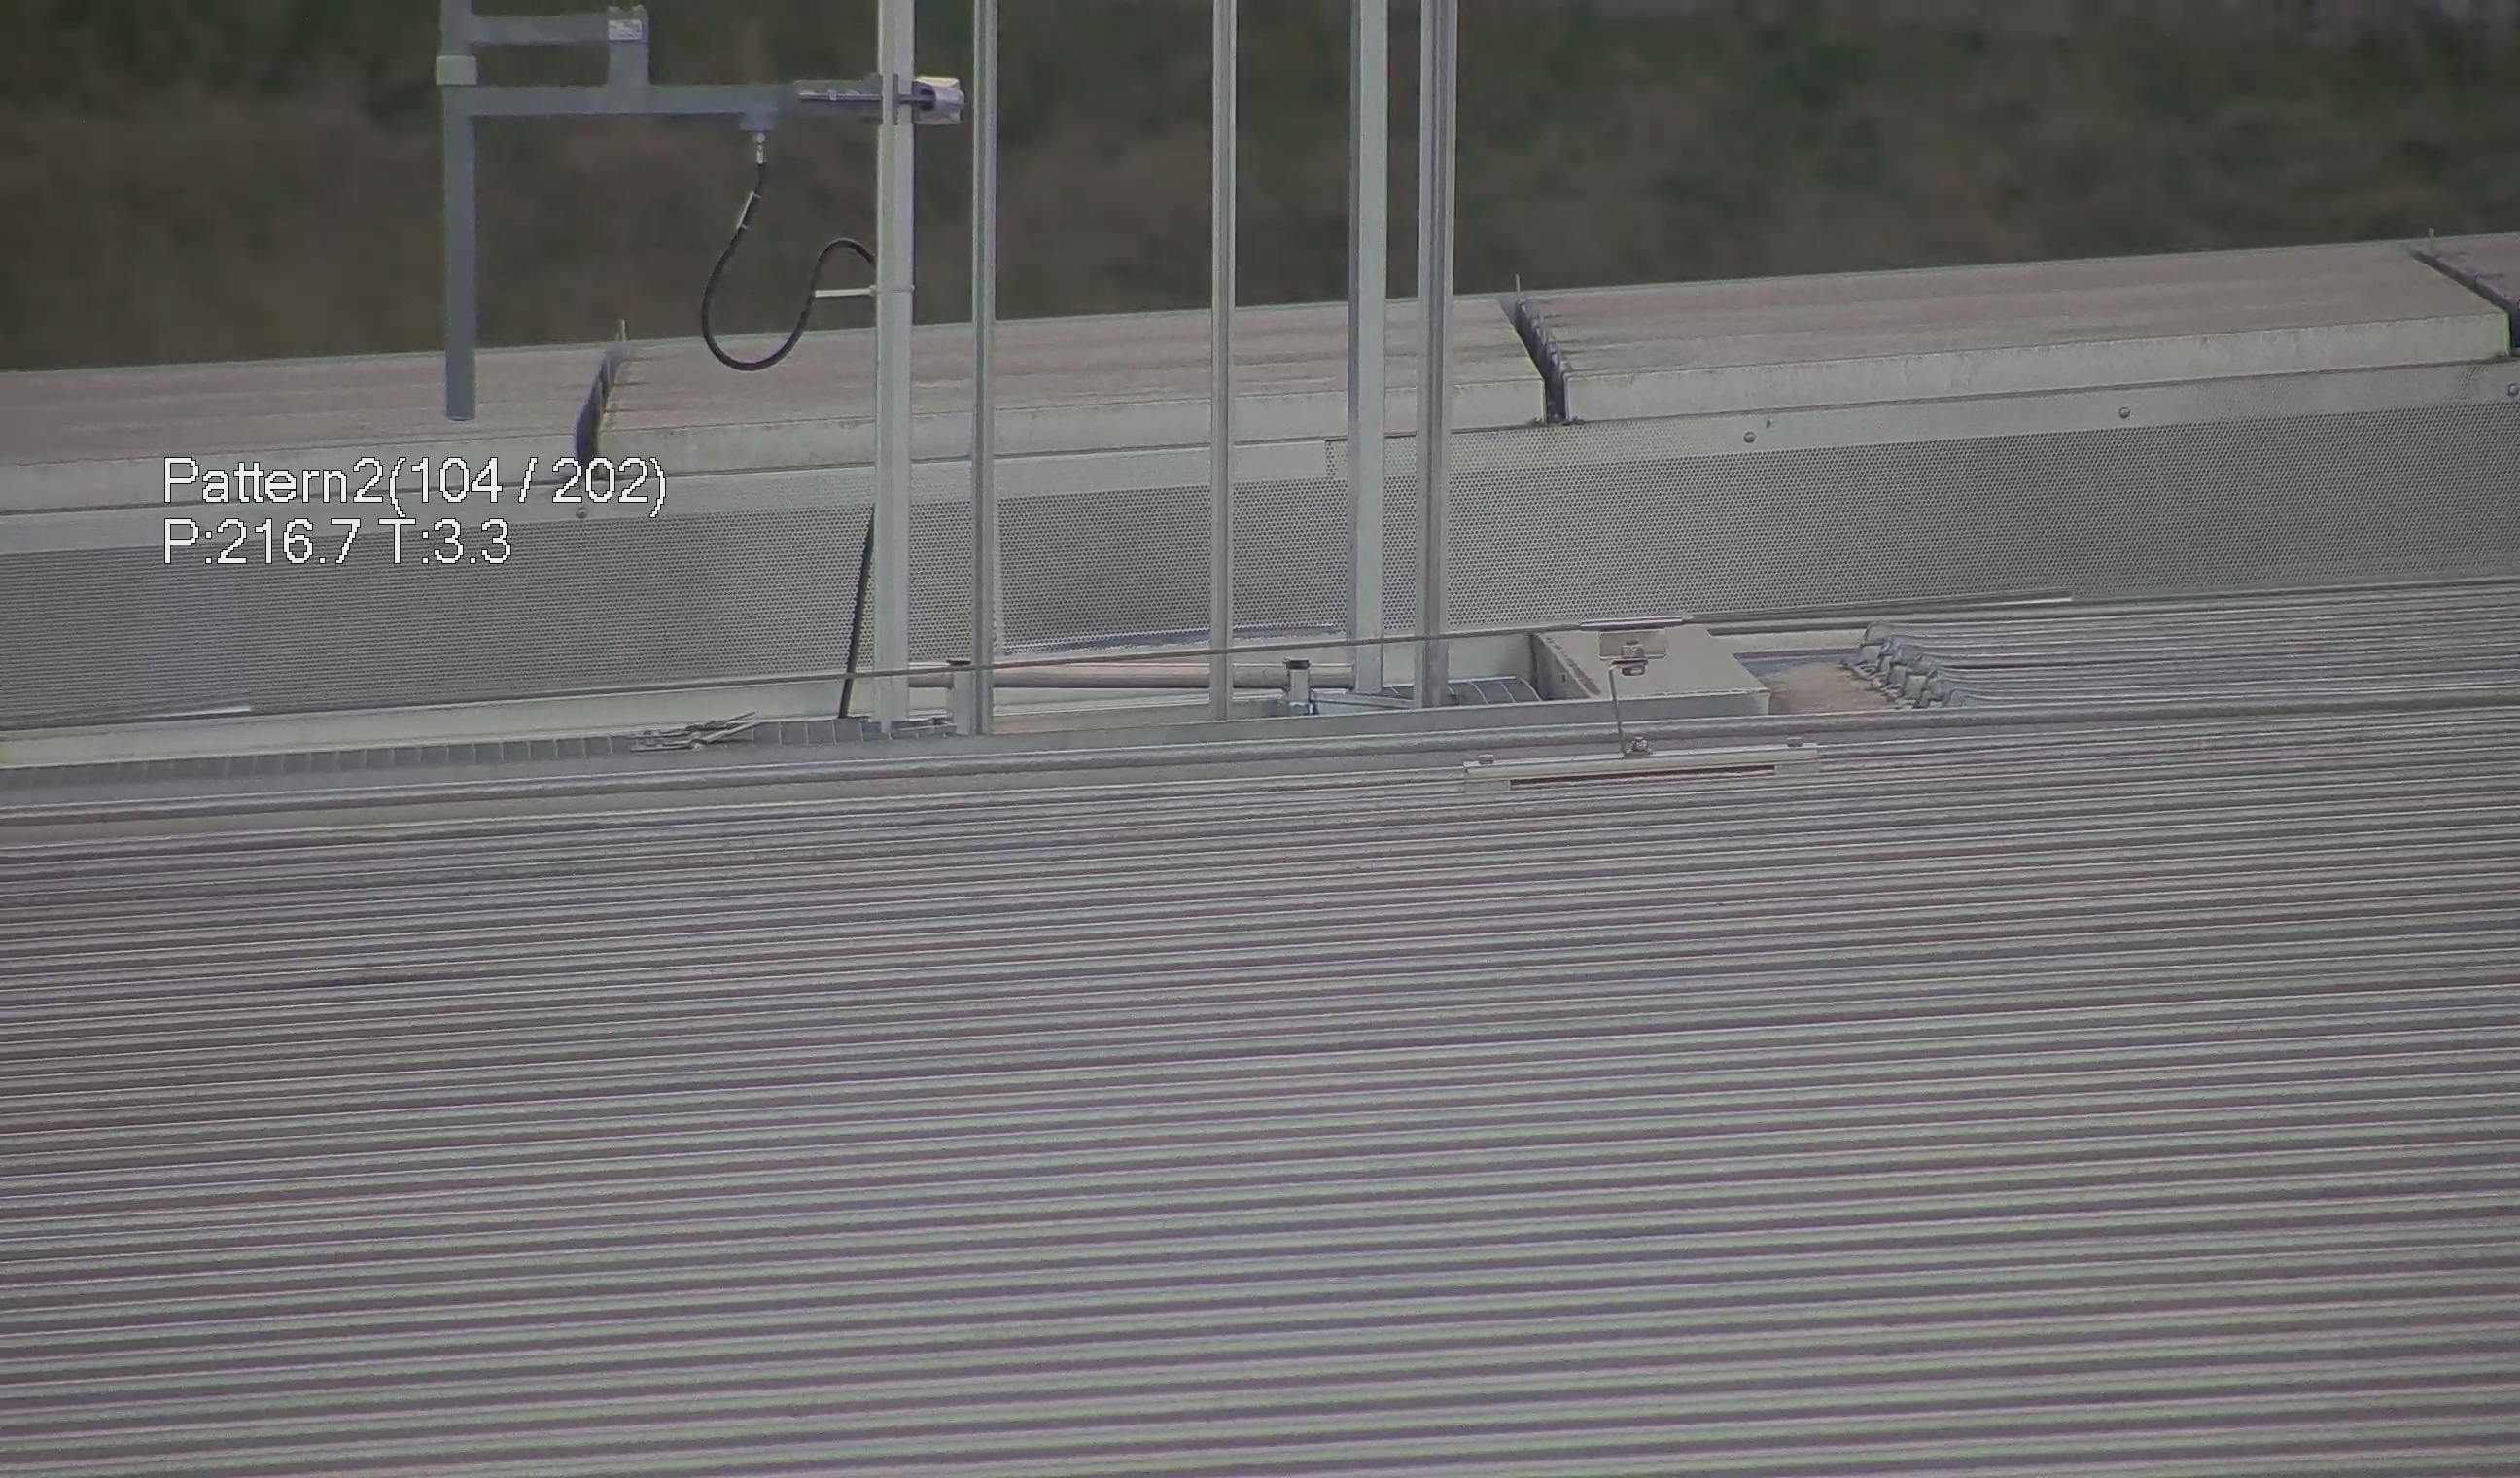Other: (1495, 269, 1590, 426)
